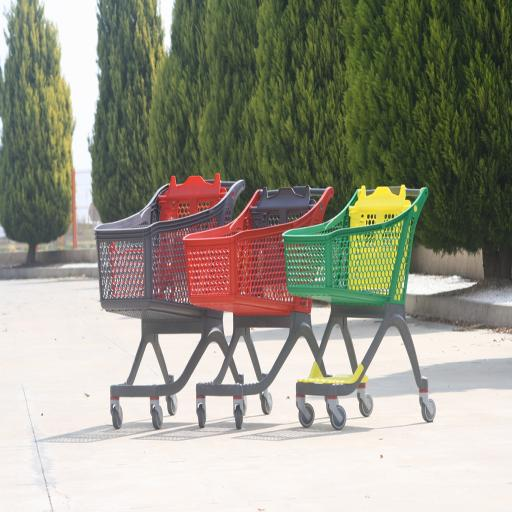shopping_cart: (96, 176, 242, 433), (287, 179, 435, 431), (184, 179, 330, 432)
